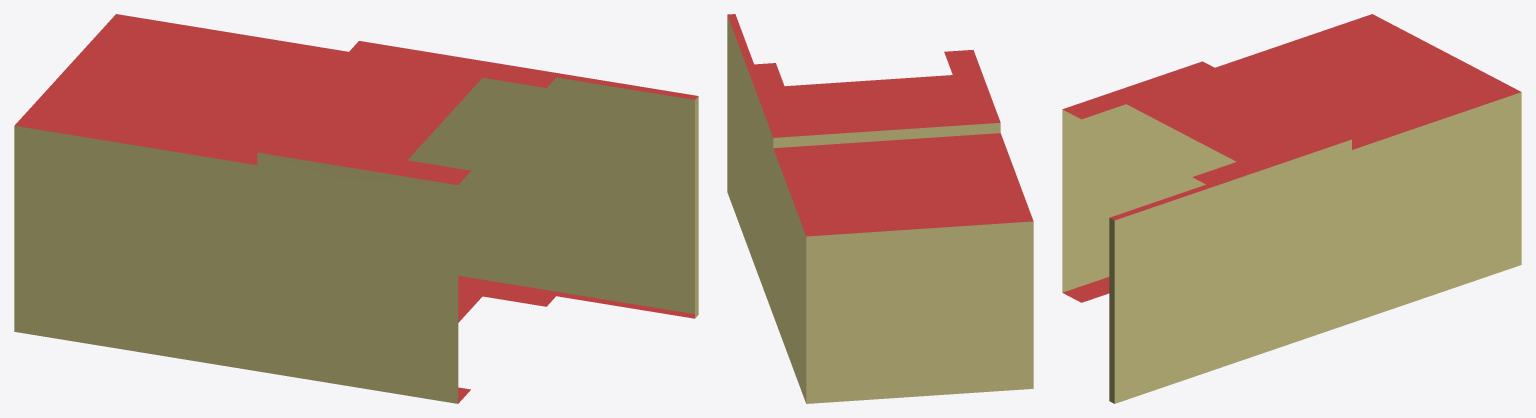
3 renders of one model, left to right at view 1: azimuth 30°, elevation 25°; view 2: azimuth 150°, elevation 25°; view 3: azimuth 270°, elevation 25°, orthographic. The views are drawn at different scales.
Bounding box in the file's own units: 15.28 × 13.67 × 6.02.
